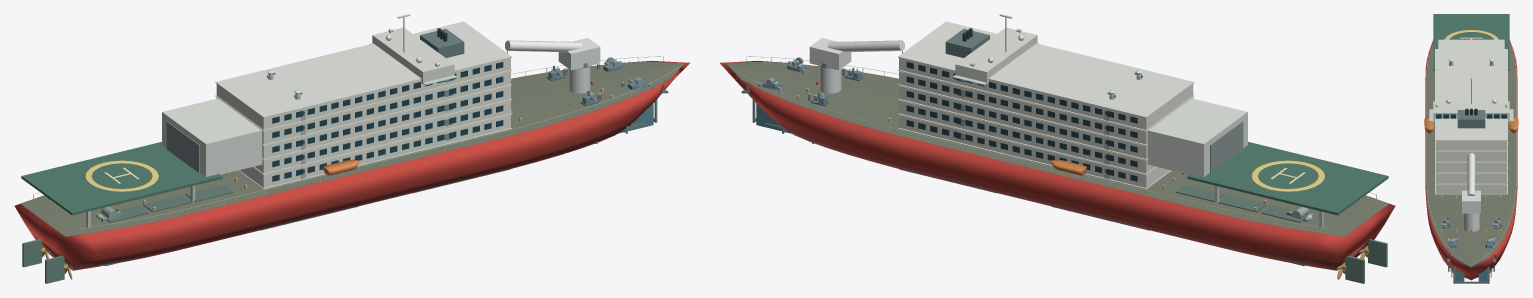
Rendered from sa-agulhas-ii.lod0.glb.
3 renders of one model, left to right at view 1: azimuth 30°, elevation 25°; view 2: azimuth 150°, elevation 25°; view 3: azimuth 270°, elevation 25°, orthographic. The views are drawn at different scales.
Visible parts, largest first — view 1: sa-agulhas-ii.structure.hull.outer-hull-shell.1, sa-agulhas-ii.structure.decks.main-strength-deck.1, sa-agulhas-ii.accommodation.superstructure.superstructure-we, sa-agulhas-ii.cargo.aviation.helicopter-landing-deck.1, sa-agulhas-ii.cargo.aviation.helicopter-hangar.1, sa-agulhas-ii.structure.hull.antifouling-underwater-shell.1, sa-agulhas-ii.accommodation.superstructure.deck-5-enclosure., sa-agulhas-ii.accommodation.superstructure.deck-2-enclosure., sa-agulhas-ii.accommodation.superstructure.deck-1-enclosure., sa-agulhas-ii.accommodation.superstructure.deck-4-enclosure., sa-agulhas-ii.accommodation.superstructure.deck-3-enclosure., sa-agulhas-ii.navigation.bridge.wheelhouse.1 (+14 smaller); view 2: sa-agulhas-ii.structure.hull.outer-hull-shell.1, sa-agulhas-ii.structure.decks.main-strength-deck.1, sa-agulhas-ii.accommodation.superstructure.superstructure-we, sa-agulhas-ii.cargo.aviation.helicopter-landing-deck.1, sa-agulhas-ii.cargo.aviation.helicopter-hangar.1, sa-agulhas-ii.structure.hull.antifouling-underwater-shell.1, sa-agulhas-ii.accommodation.superstructure.deck-5-enclosure., sa-agulhas-ii.accommodation.superstructure.deck-2-enclosure., sa-agulhas-ii.accommodation.superstructure.deck-1-enclosure., sa-agulhas-ii.accommodation.superstructure.deck-4-enclosure., sa-agulhas-ii.accommodation.superstructure.deck-3-enclosure., sa-agulhas-ii.navigation.bridge.wheelhouse.1 (+14 smaller); view 3: sa-agulhas-ii.structure.decks.main-strength-deck.1, sa-agulhas-ii.accommodation.superstructure.superstructure-we, sa-agulhas-ii.cargo.aviation.helicopter-landing-deck.1, sa-agulhas-ii.structure.hull.outer-hull-shell.1, sa-agulhas-ii.navigation.bridge.wheelhouse.1, sa-agulhas-ii.cargo.aviation.helicopter-hangar.1, sa-agulhas-ii.accommodation.superstructure.deck-4-enclosure., sa-agulhas-ii.accommodation.superstructure.deck-2-enclosure., sa-agulhas-ii.accommodation.superstructure.deck-3-enclosure., sa-agulhas-ii.accommodation.superstructure.deck-5-enclosure., sa-agulhas-ii.accommodation.superstructure.deck-1-enclosure., sa-agulhas-ii.propulsion.exhaust.exhaust-casing.1 (+15 smaller).
Boxes of the visible parts, x1,y1,x2,y2 form: sa-agulhas-ii.structure.hull.outer-hull-shell.1: [14, 60, 689, 263]; sa-agulhas-ii.structure.decks.main-strength-deck.1: [21, 61, 683, 236]; sa-agulhas-ii.accommodation.superstructure.superstructure-we: [215, 21, 511, 117]; sa-agulhas-ii.cargo.aviation.helicopter-landing-deck.1: [21, 142, 222, 215]; sa-agulhas-ii.cargo.aviation.helicopter-hangar.1: [162, 98, 262, 176]; sa-agulhas-ii.structure.hull.antifouling-underwater-shell.1: [32, 118, 637, 270]; sa-agulhas-ii.accommodation.superstructure.deck-5-enclosure.: [216, 57, 510, 129]; sa-agulhas-ii.accommodation.superstructure.deck-2-enclosure.: [254, 100, 510, 173]; sa-agulhas-ii.accommodation.superstructure.deck-1-enclosure.: [239, 115, 510, 187]; sa-agulhas-ii.accommodation.superstructure.deck-4-enclosure.: [216, 71, 510, 144]; sa-agulhas-ii.accommodation.superstructure.deck-3-enclosure.: [262, 86, 510, 158]; sa-agulhas-ii.navigation.bridge.wheelhouse.1: [372, 27, 454, 84]; sa-agulhas-ii.structure.hull.outer-hull-shell.1: [720, 60, 1395, 263]; sa-agulhas-ii.structure.decks.main-strength-deck.1: [726, 61, 1388, 236]; sa-agulhas-ii.accommodation.superstructure.superstructure-we: [898, 21, 1194, 117]; sa-agulhas-ii.cargo.aviation.helicopter-landing-deck.1: [1187, 142, 1388, 215]; sa-agulhas-ii.cargo.aviation.helicopter-hangar.1: [1147, 98, 1247, 176]; sa-agulhas-ii.structure.hull.antifouling-underwater-shell.1: [772, 118, 1377, 270]; sa-agulhas-ii.accommodation.superstructure.deck-5-enclosure.: [899, 57, 1193, 129]; sa-agulhas-ii.accommodation.superstructure.deck-2-enclosure.: [899, 100, 1155, 173]; sa-agulhas-ii.accommodation.superstructure.deck-1-enclosure.: [899, 115, 1170, 187]; sa-agulhas-ii.accommodation.superstructure.deck-4-enclosure.: [899, 71, 1193, 144]; sa-agulhas-ii.accommodation.superstructure.deck-3-enclosure.: [899, 86, 1147, 158]; sa-agulhas-ii.navigation.bridge.wheelhouse.1: [955, 27, 1037, 84]; sa-agulhas-ii.structure.decks.main-strength-deck.1: [1426, 43, 1516, 267]; sa-agulhas-ii.accommodation.superstructure.superstructure-we: [1435, 49, 1507, 140]; sa-agulhas-ii.cargo.aviation.helicopter-landing-deck.1: [1433, 14, 1509, 70]; sa-agulhas-ii.structure.hull.outer-hull-shell.1: [1425, 41, 1517, 276]; sa-agulhas-ii.navigation.bridge.wheelhouse.1: [1433, 101, 1509, 122]; sa-agulhas-ii.cargo.aviation.helicopter-hangar.1: [1438, 39, 1504, 48]; sa-agulhas-ii.accommodation.superstructure.deck-4-enclosure.: [1436, 151, 1506, 160]; sa-agulhas-ii.accommodation.superstructure.deck-2-enclosure.: [1436, 173, 1506, 182]; sa-agulhas-ii.accommodation.superstructure.deck-3-enclosure.: [1436, 162, 1506, 171]; sa-agulhas-ii.accommodation.superstructure.deck-5-enclosure.: [1436, 141, 1506, 149]; sa-agulhas-ii.accommodation.superstructure.deck-1-enclosure.: [1436, 184, 1506, 193]; sa-agulhas-ii.propulsion.exhaust.exhaust-casing.1: [1457, 110, 1485, 128].
Bounding box in the file's own units: 135 × 33.19 × 22.16.
